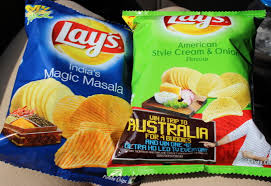lays-small: (129, 7, 266, 176), (22, 1, 125, 183)
